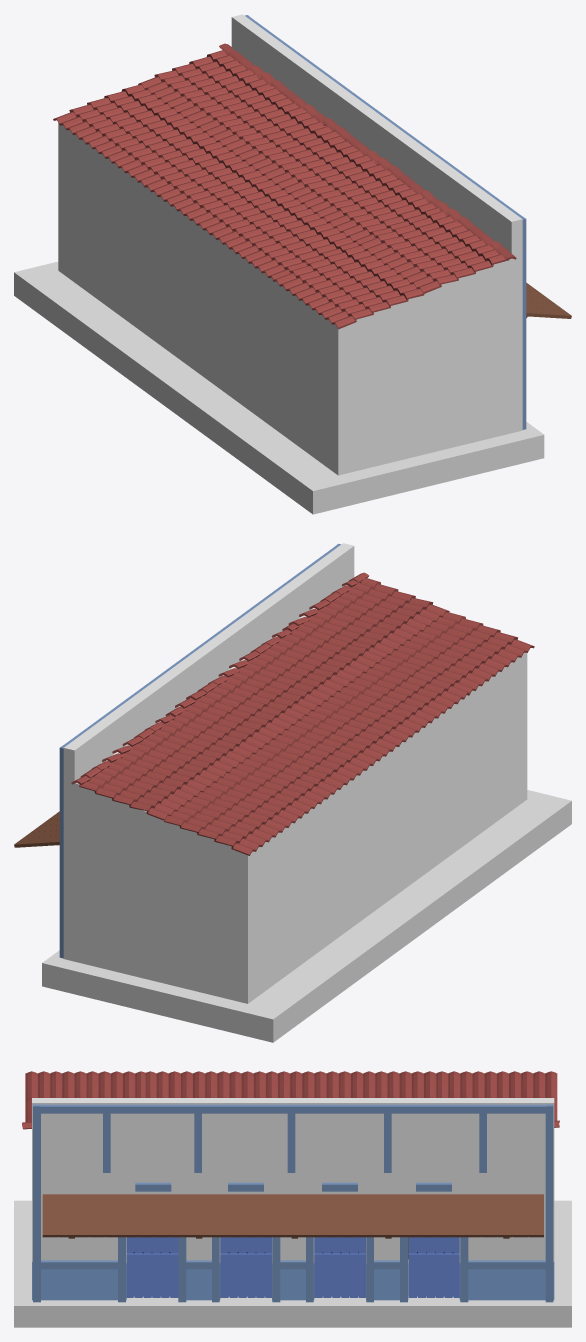
File: casa10.fbx
3 views of the same model, one above another, from view 1: azimuth 30°, elevation 25°; view 2: azimuth 150°, elevation 25°; view 3: azimuth 270°, elevation 25° (orthographic). The views are drawn at different scales.
Parts seen in each view (by area): view 1: Cube.015, Cube.016, Cube.018, Cube.017, Cube.019; view 2: Cube.015, Cube.016, Cube.018, Cube.017, Cube.019; view 3: Cube.015, Cube.019, Cube.018, Cube.017, Cube.016, Plane.007.
Part boxes in pixels (left/top/right/bottom): Cube.015: left=58, top=14, right=522, bottom=475; Cube.016: left=53, top=43, right=516, bottom=329; Cube.018: left=14, top=261, right=544, bottom=514; Cube.017: left=245, top=15, right=526, bottom=429; Cube.019: left=526, top=282, right=571, bottom=318; Cube.015: left=63, top=543, right=527, bottom=1003; Cube.016: left=71, top=572, right=534, bottom=855; Cube.018: left=42, top=790, right=571, bottom=1042; Cube.017: left=59, top=543, right=340, bottom=958; Cube.019: left=14, top=811, right=59, bottom=847; Cube.015: left=32, top=1098, right=554, bottom=1300; Cube.019: left=42, top=1194, right=543, bottom=1238; Cube.018: left=14, top=1200, right=571, bottom=1327; Cube.017: left=33, top=1104, right=553, bottom=1302; Cube.016: left=22, top=1071, right=559, bottom=1129; Plane.007: left=126, top=1237, right=459, bottom=1297.
Size of the model in its own units: 298 by 243 by 562.
